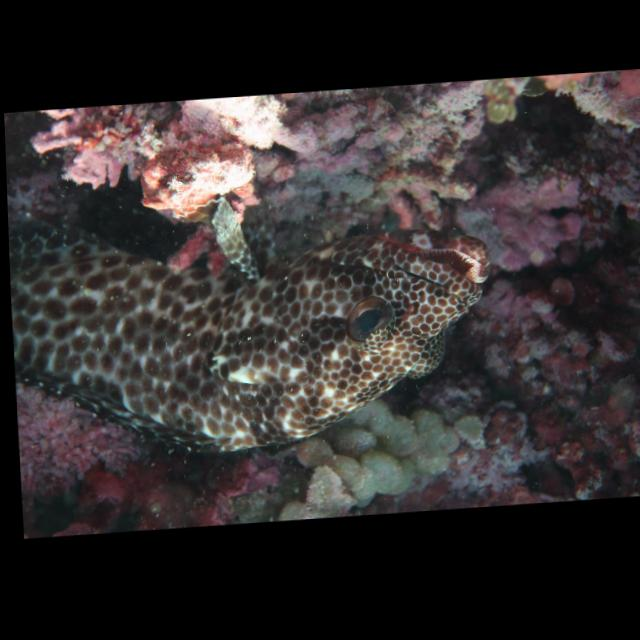Groupers: (7, 173, 507, 475)
